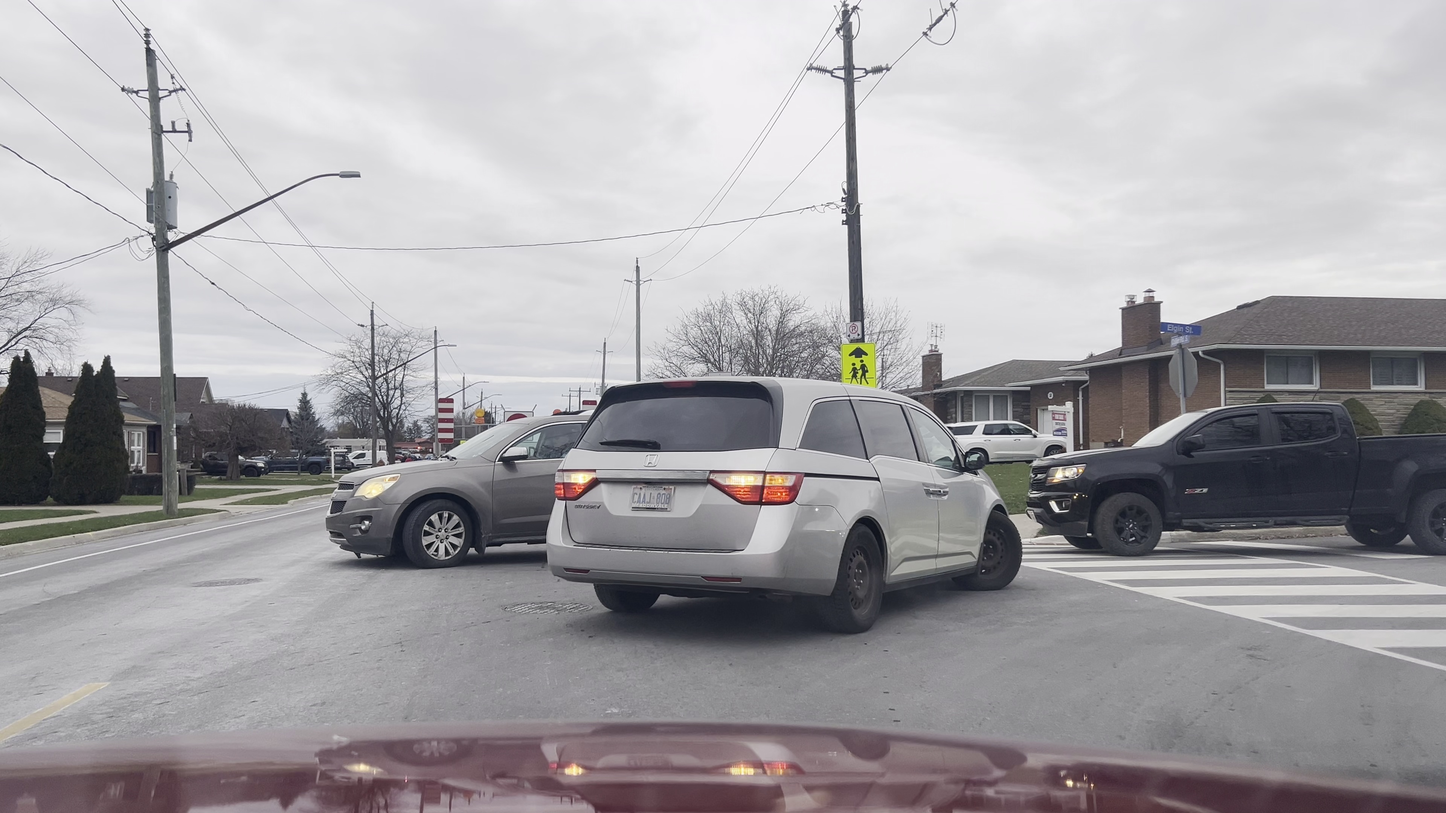construction: (420, 383, 599, 450)
